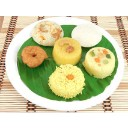idly: (71, 24, 104, 45)
